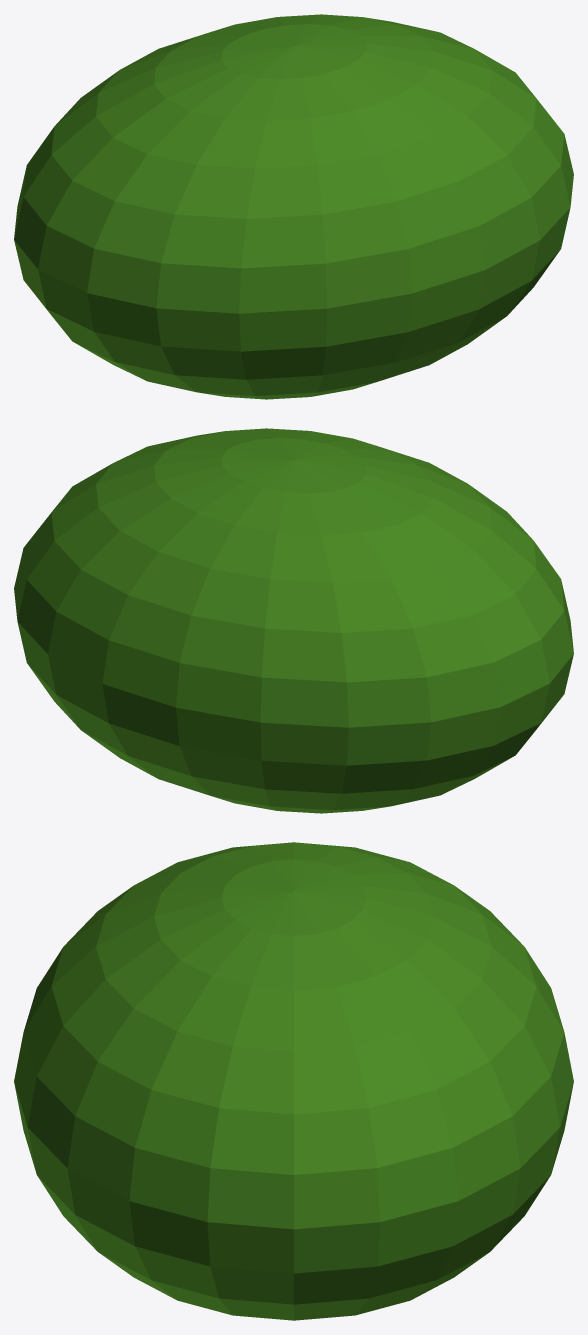
File: Hill.obj
3 views of the same model, one above another, from view 1: azimuth 30°, elevation 25°; view 2: azimuth 150°, elevation 25°; view 3: azimuth 270°, elevation 25° (orthographic). The views are drawn at different scales.
Parts seen in each view (by area): view 1: Hill; view 2: Hill; view 3: Hill.
Boxes of the visible parts, bbox=[...] form: Hill: bbox=[14, 14, 573, 399]; Hill: bbox=[14, 428, 573, 813]; Hill: bbox=[14, 842, 573, 1320].
Bounding box in the file's own units: 10 × 6 × 8.
